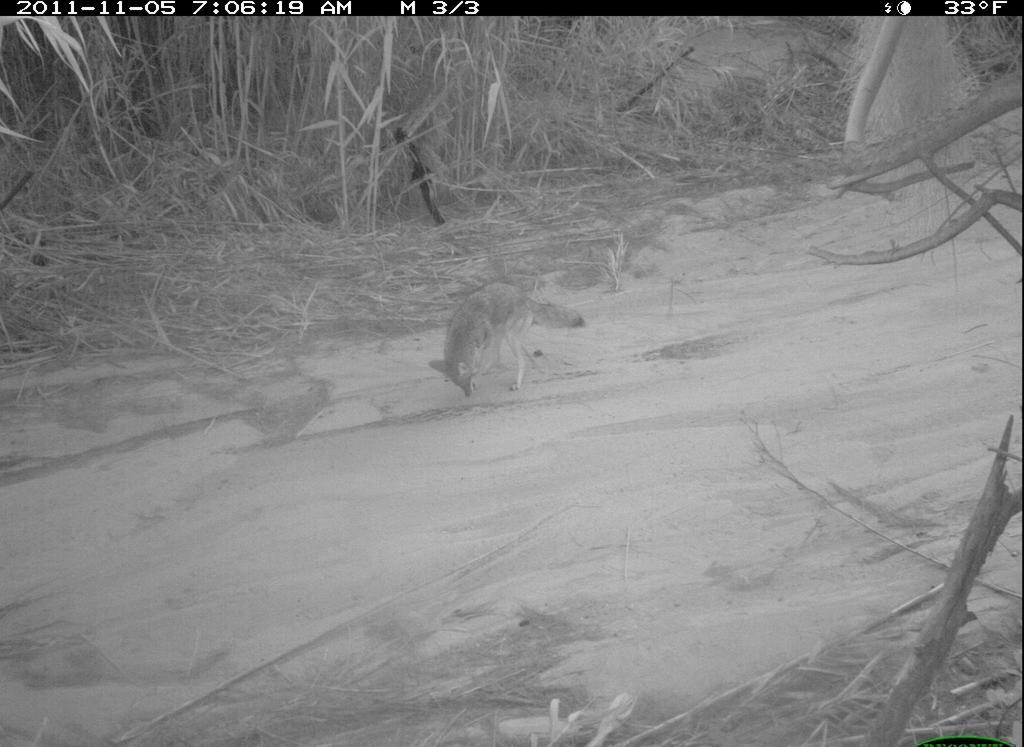coyote: (427, 280, 589, 405)
